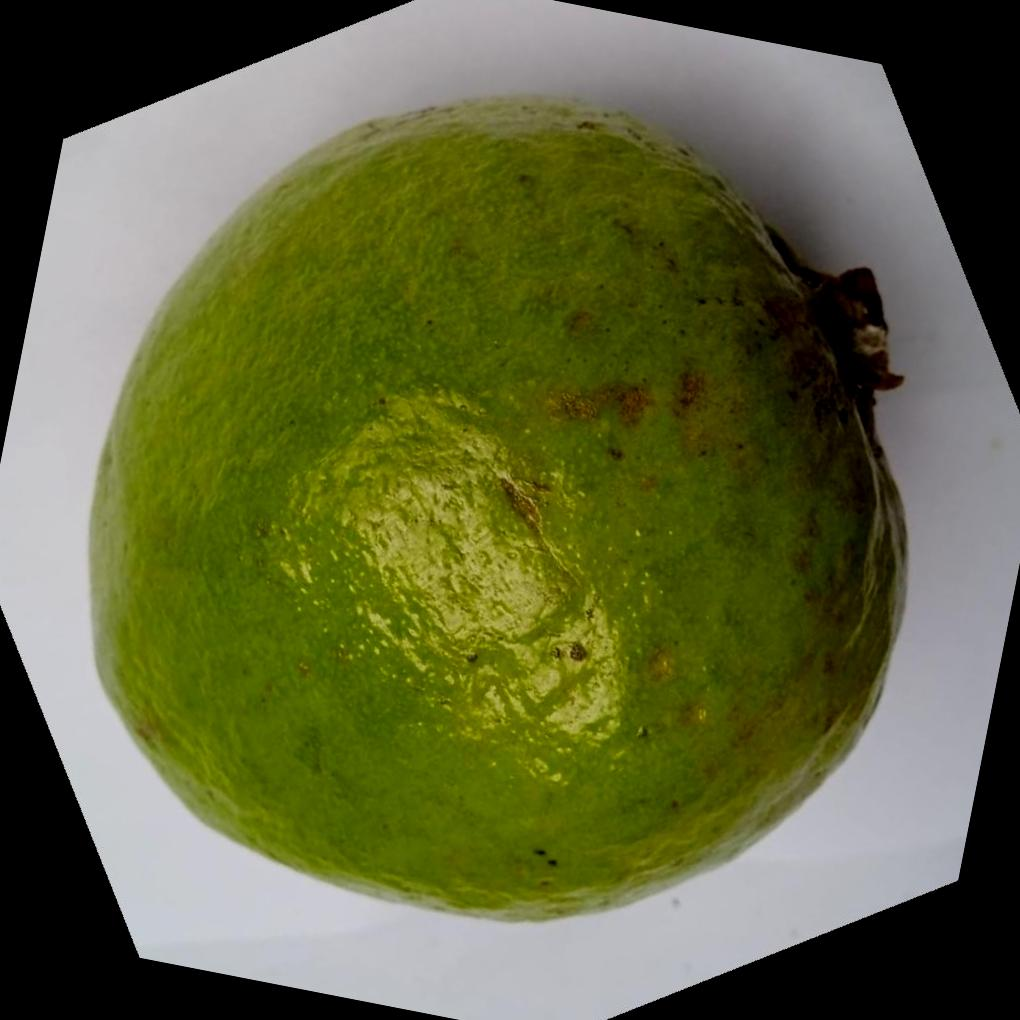FreshGuava: (87, 92, 912, 926)
